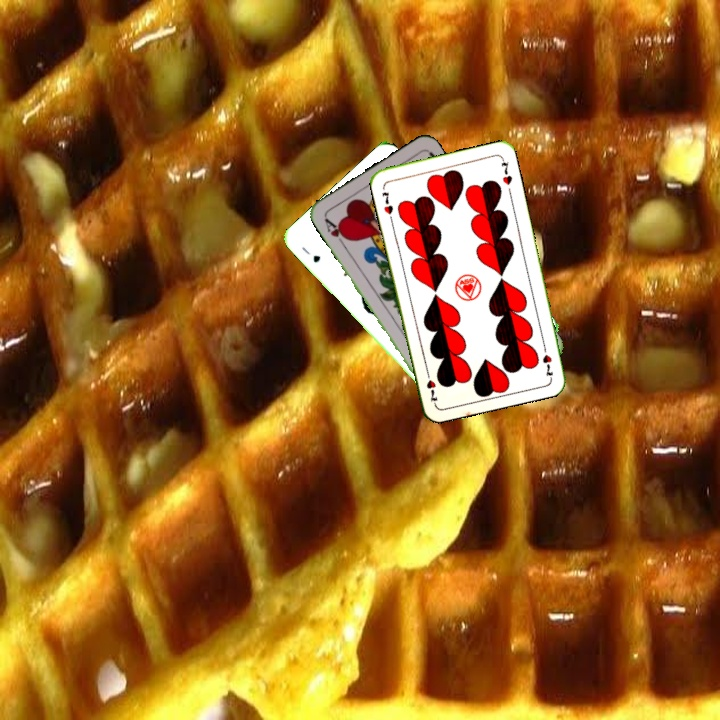GU: (297, 243, 323, 265)
H7: (538, 340, 556, 380), (378, 187, 396, 217)
HA: (320, 214, 351, 249)
